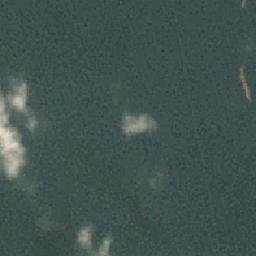cloud: (1, 80, 38, 179), (75, 226, 118, 256), (121, 113, 158, 137)
debris: (240, 68, 251, 101)
